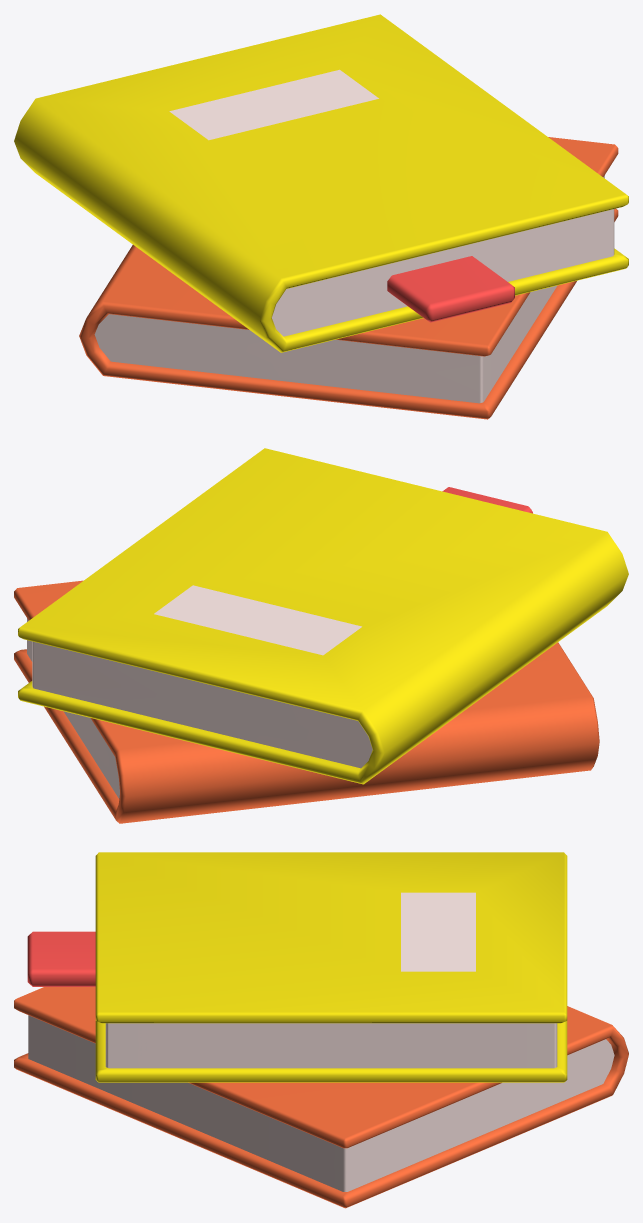
Rendered from Public_17_Workbooks_1.glb.
3 renders of one model, top to bottom at view 1: azimuth 30°, elevation 25°; view 2: azimuth 150°, elevation 25°; view 3: azimuth 270°, elevation 25°, orthographic. The views are drawn at different scales.
Visible parts, largest first — view 1: Public_17_Workbooks_1; view 2: Public_17_Workbooks_1; view 3: Public_17_Workbooks_1.
Boxes of the visible parts, x1,y1,x2,y2 form: Public_17_Workbooks_1: (14, 14, 628, 419); Public_17_Workbooks_1: (14, 448, 628, 823); Public_17_Workbooks_1: (14, 852, 628, 1208).
Bounding box in the file's own units: 1.25 × 0.3183 × 1.25.
Materials: 1 (1 with a texture image).
